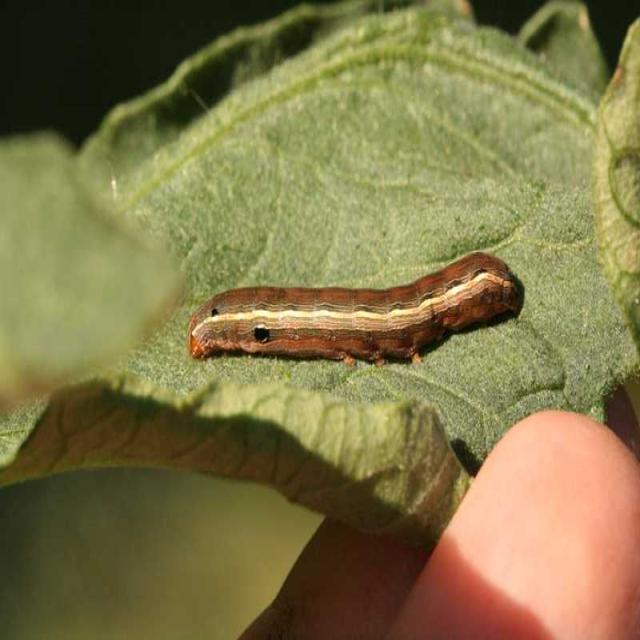Cutworm: (181, 255, 524, 367)
